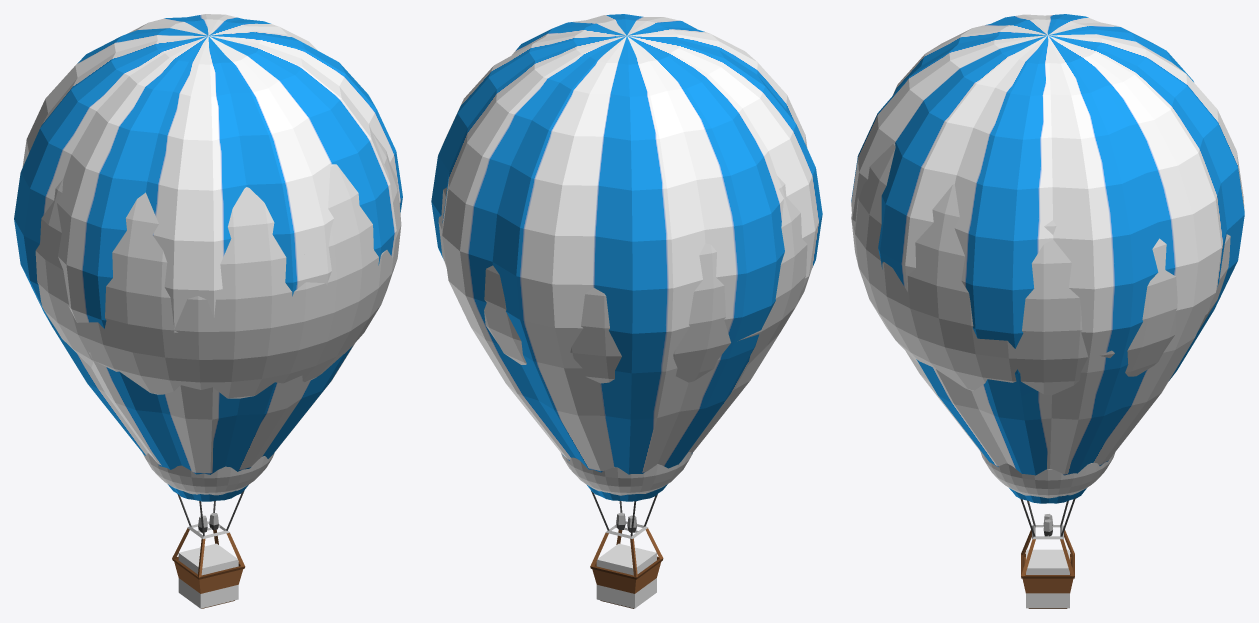
Rendered from balooncollision.glb.
3 views of the same model, side by side, from view 1: azimuth 30°, elevation 25°; view 2: azimuth 150°, elevation 25°; view 3: azimuth 270°, elevation 25° (orthographic).
Visible parts, largest first — view 1: Hot Air Balloon, COL_Balloon__Mid, COL_Balloon_Bottom, COL_Basket; view 2: Hot Air Balloon, COL_Balloon__Mid, COL_Balloon_Bottom, COL_Basket; view 3: Hot Air Balloon, COL_Balloon__Mid, COL_Balloon_Bottom, COL_Basket.
Boxes of the visible parts, bbox=[...] form: Hot Air Balloon: bbox=[14, 14, 402, 608]; COL_Balloon__Mid: bbox=[35, 132, 401, 398]; COL_Balloon_Bottom: bbox=[142, 453, 274, 495]; COL_Basket: bbox=[178, 543, 238, 608]; Hot Air Balloon: bbox=[431, 14, 822, 608]; COL_Balloon__Mid: bbox=[438, 132, 810, 383]; COL_Balloon_Bottom: bbox=[561, 452, 692, 495]; COL_Basket: bbox=[596, 543, 656, 608]; Hot Air Balloon: bbox=[851, 14, 1244, 608]; COL_Balloon__Mid: bbox=[851, 143, 1230, 395]; COL_Balloon_Bottom: bbox=[980, 450, 1115, 498]; COL_Basket: bbox=[1026, 549, 1069, 608].
Bounding box in the file's own units: 11.56 × 18.57 × 11.72.
Materials: 1 (1 with a texture image).
